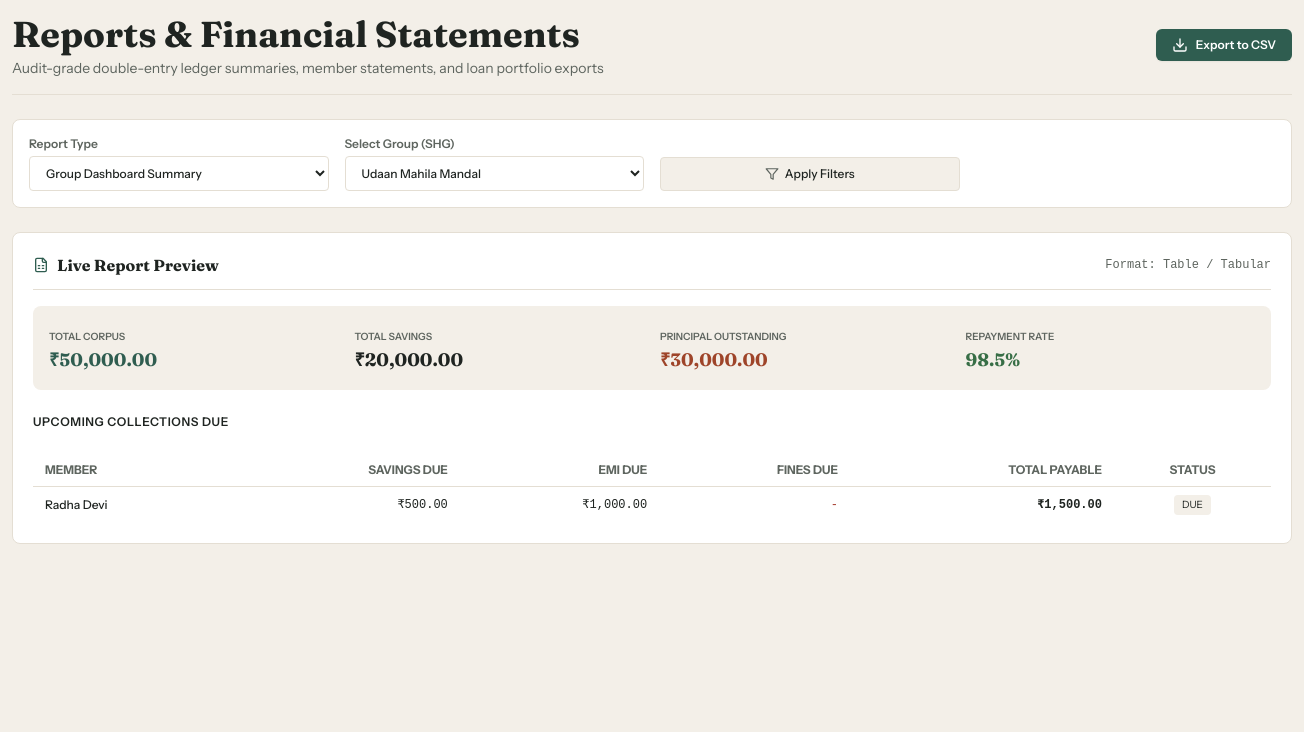
Screen 10: Reports & Financial Statements › switches to Loan Portfolio and renders registry
Expected: the text "Total Corpus" is shown, [49,330,125,343]
Step 1. Select "Loan Portfolio & Aging (PAR)" in the dropdown labelled "Report Type" → [179, 174], box [29,156,328,191]
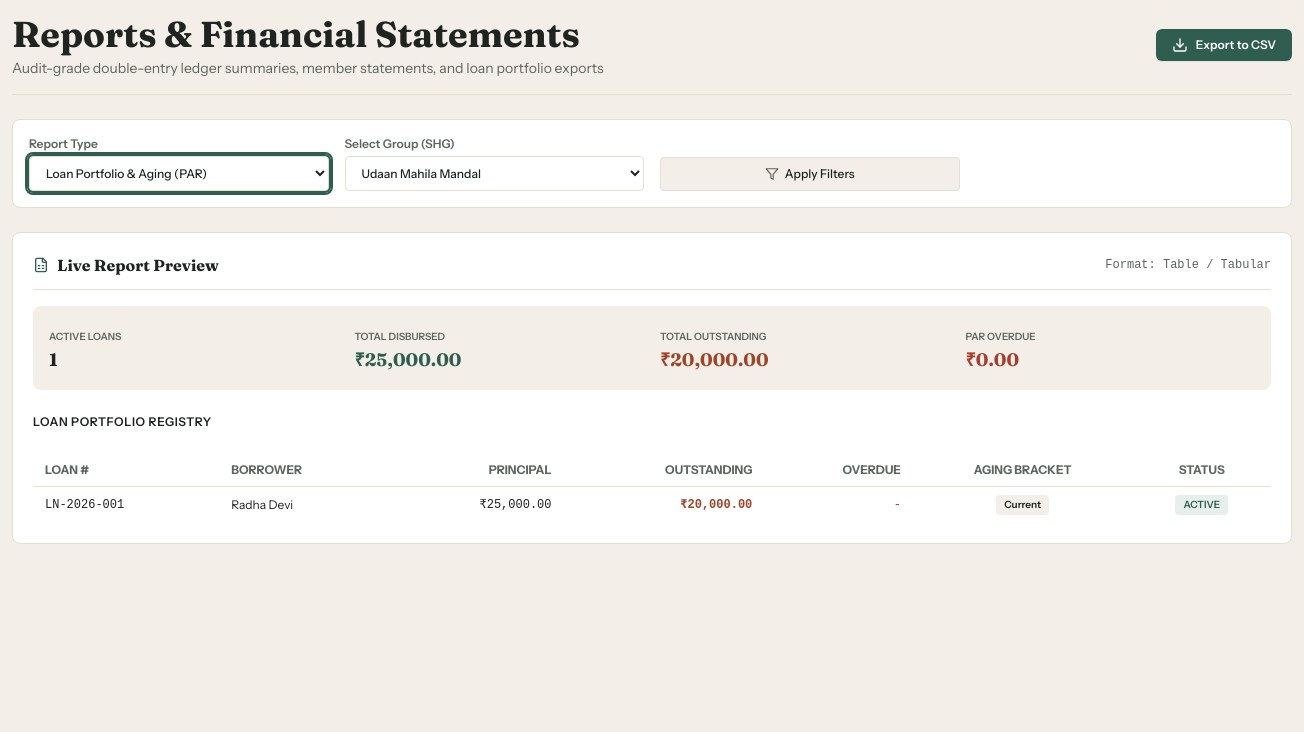
Now the heading "Loan Portfolio Registry" is shown, box [33,414,212,429]
Now the text "LN-2026-001" is shown, box [33,486,219,523]
Now the text "Total Disbursed" is shown, box [354,330,445,343]
